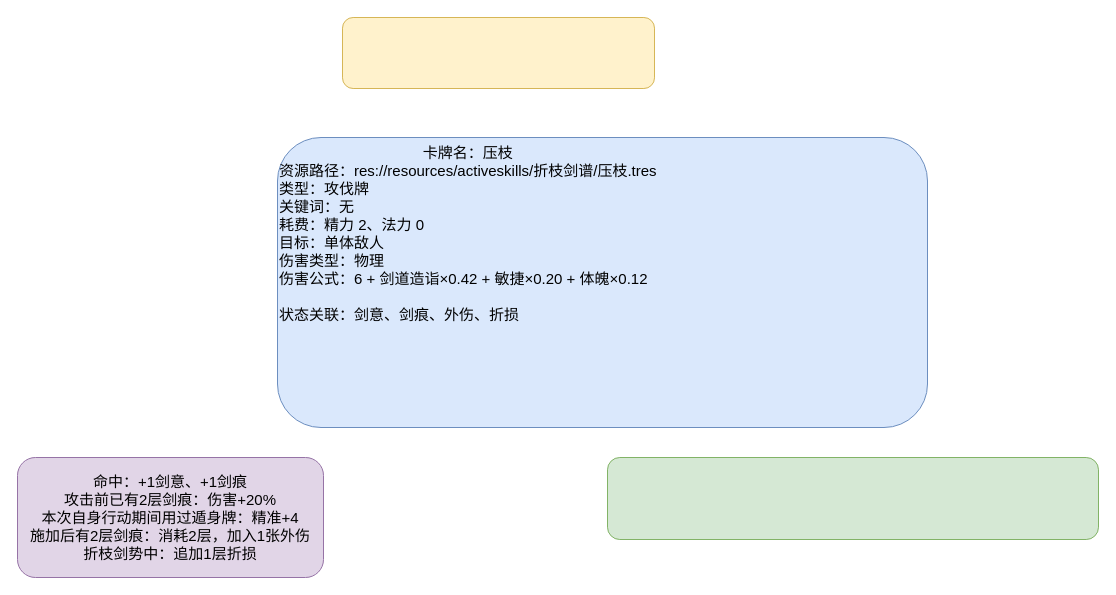
This 1116x595 diagram has some shape labels left out. The box of each missing label's shape, as (x1, y1, x2, y2) in pixels:
压枝 折枝剑谱 / 压枝卷 / 习得*2: (342, 16, 654, 88)
定位：将剑痕转为外伤 递进：点痕 → 裂筋 先施加本牌剑痕，再检查并消耗；本次自身行动期间使用过任意秘籍的遁身牌时提高精准: (606, 456, 1098, 540)
